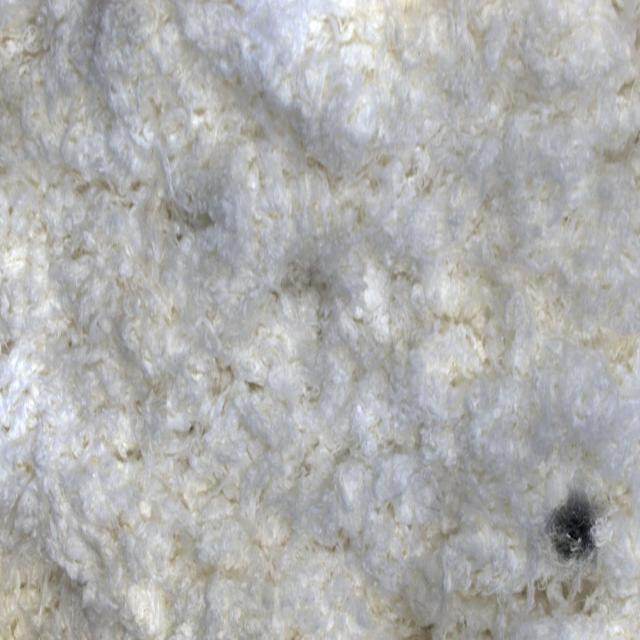dust: (527, 448, 631, 615)
